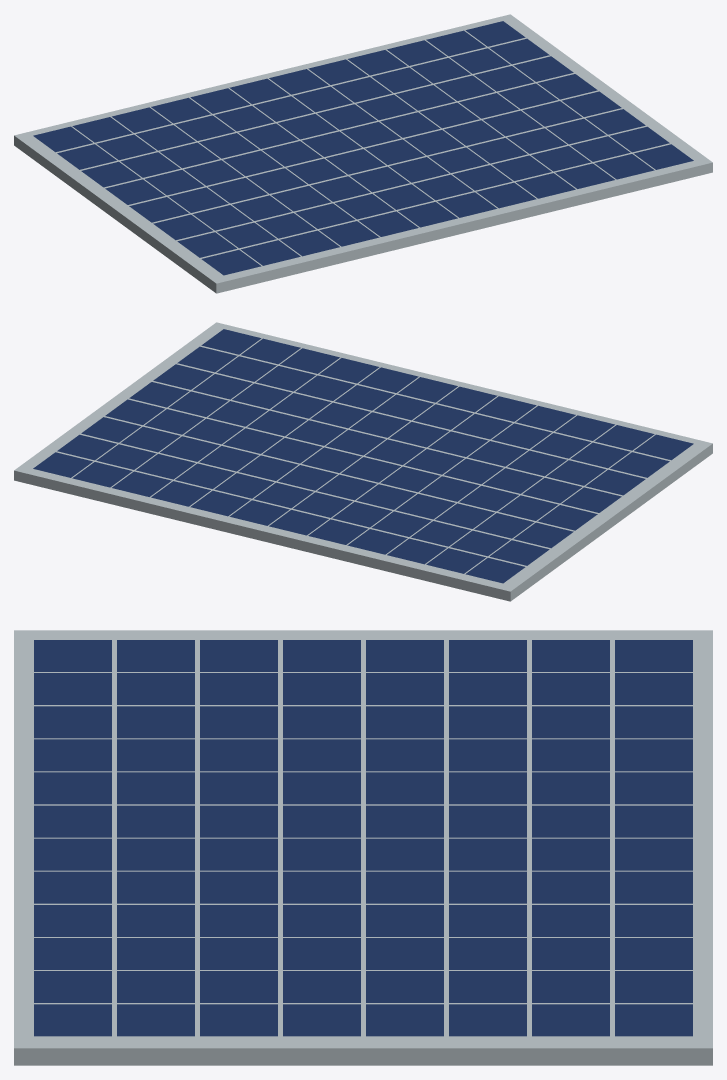
Rendered from mars_cruise_stage.solar_panel_06.glb.
3 renders of one model, top to bottom at view 1: azimuth 30°, elevation 25°; view 2: azimuth 150°, elevation 25°; view 3: azimuth 270°, elevation 25°, orthographic. The views are drawn at different scales.
Visible parts, largest first — view 1: mars_cruise_stage.solar_panel_06.mesh_Indigo_solar_cells, mars_cruise_stage.solar_panel_06.mesh_Satin_aluminum; view 2: mars_cruise_stage.solar_panel_06.mesh_Indigo_solar_cells, mars_cruise_stage.solar_panel_06.mesh_Satin_aluminum; view 3: mars_cruise_stage.solar_panel_06.mesh_Indigo_solar_cells, mars_cruise_stage.solar_panel_06.mesh_Satin_aluminum.
Part boxes in pixels (x1,y1,x2,y2): mars_cruise_stage.solar_panel_06.mesh_Indigo_solar_cells: (33, 21, 693, 275); mars_cruise_stage.solar_panel_06.mesh_Satin_aluminum: (14, 14, 712, 293); mars_cruise_stage.solar_panel_06.mesh_Indigo_solar_cells: (33, 329, 693, 583); mars_cruise_stage.solar_panel_06.mesh_Satin_aluminum: (14, 322, 712, 601); mars_cruise_stage.solar_panel_06.mesh_Indigo_solar_cells: (34, 640, 692, 1036); mars_cruise_stage.solar_panel_06.mesh_Satin_aluminum: (14, 630, 712, 1065).
Size of the model in its own units: 1.09 by 0.0225 by 0.77.
